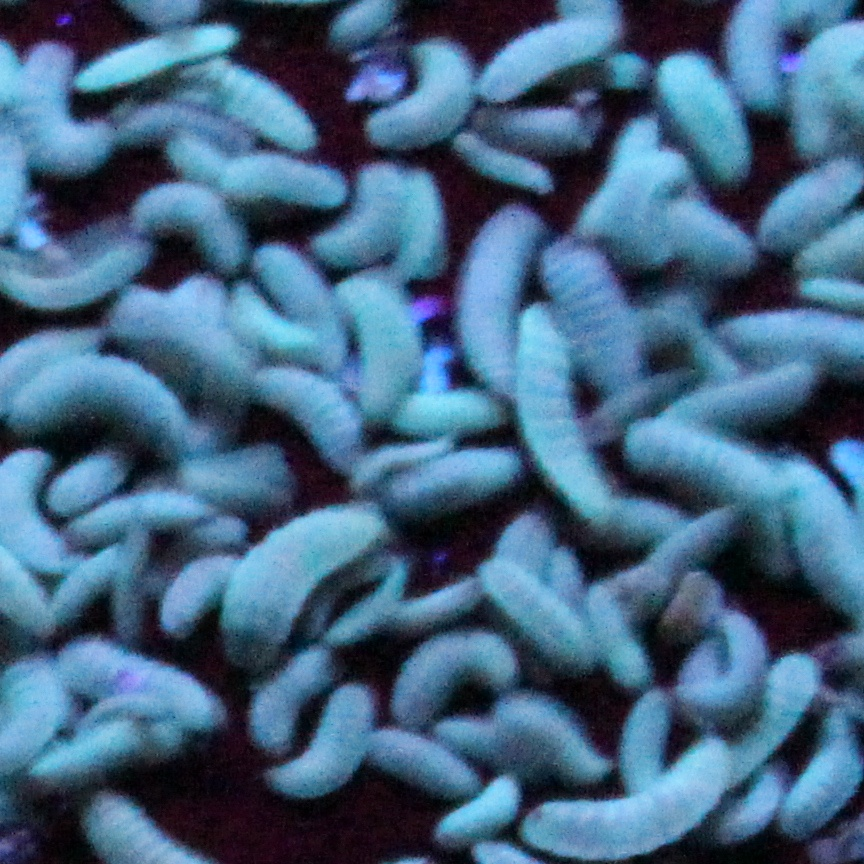larve: (497, 538, 593, 668), (555, 245, 634, 393), (13, 370, 183, 432), (234, 515, 308, 655), (458, 219, 522, 377), (494, 695, 610, 782), (353, 266, 414, 413), (531, 793, 683, 851), (20, 56, 88, 185), (681, 369, 823, 429), (393, 635, 488, 722), (267, 369, 351, 467), (648, 433, 768, 500), (668, 53, 735, 170), (789, 710, 852, 832), (68, 634, 189, 694), (318, 681, 382, 792), (525, 395, 588, 506), (488, 29, 590, 93), (234, 72, 318, 146), (138, 187, 224, 256), (395, 459, 511, 507), (90, 25, 225, 65), (170, 543, 226, 639), (228, 156, 340, 202), (243, 669, 306, 750), (772, 155, 838, 232), (417, 43, 474, 130), (43, 442, 118, 506), (347, 162, 400, 249), (681, 660, 755, 721), (457, 142, 551, 190), (389, 755, 489, 800), (324, 585, 383, 652), (113, 100, 218, 136), (678, 210, 744, 266), (56, 728, 146, 768), (234, 290, 295, 349), (411, 172, 448, 269), (60, 551, 109, 624), (624, 699, 662, 789), (668, 579, 710, 653), (431, 806, 514, 843), (600, 601, 633, 693), (744, 764, 785, 836), (1, 482, 37, 552), (394, 590, 478, 620), (337, 12, 395, 42)
